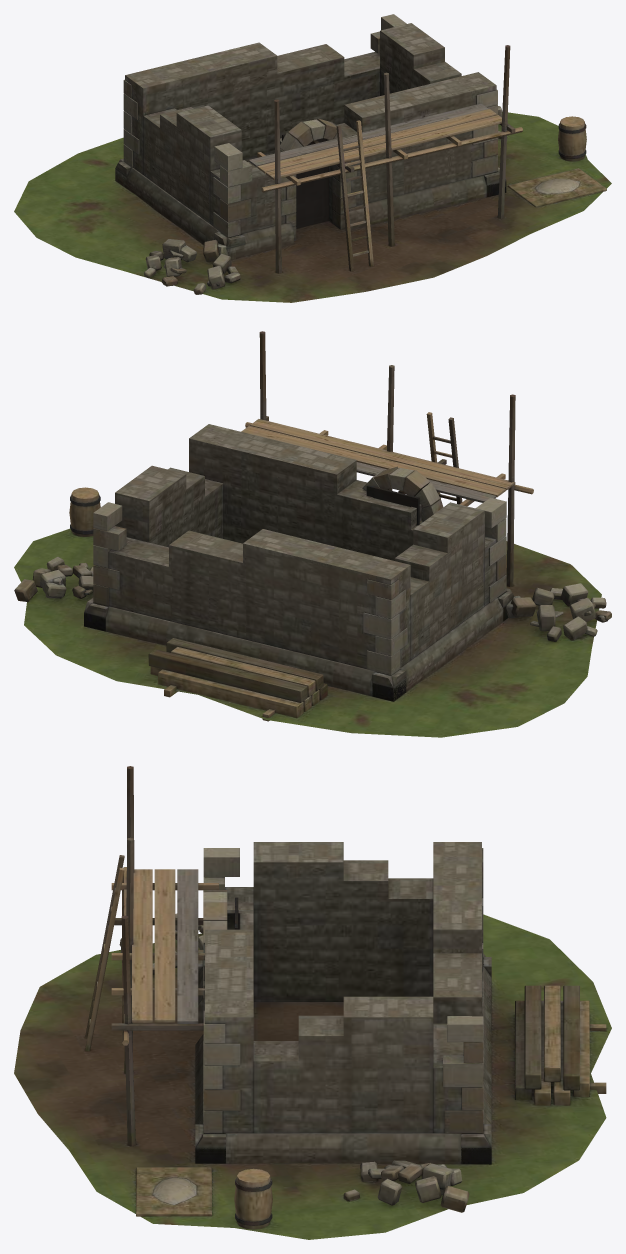
The model's file is chapel_build2.glb.
3 renders of one model, top to bottom at view 1: azimuth 30°, elevation 25°; view 2: azimuth 150°, elevation 25°; view 3: azimuth 270°, elevation 25°, orthographic. The views are drawn at different scales.
Parts seen in each view (by area): view 1: chapel_build2_LOD0; view 2: chapel_build2_LOD0; view 3: chapel_build2_LOD0.
Boxes of the visible parts, x1,y1,x2,y2 form: chapel_build2_LOD0: (14, 14, 611, 302); chapel_build2_LOD0: (14, 331, 611, 737); chapel_build2_LOD0: (14, 766, 611, 1239).
Size of what is drawn, in the model's own units: 11.45 by 3.85 by 8.65.
Materials: 1 (1 with a texture image).
